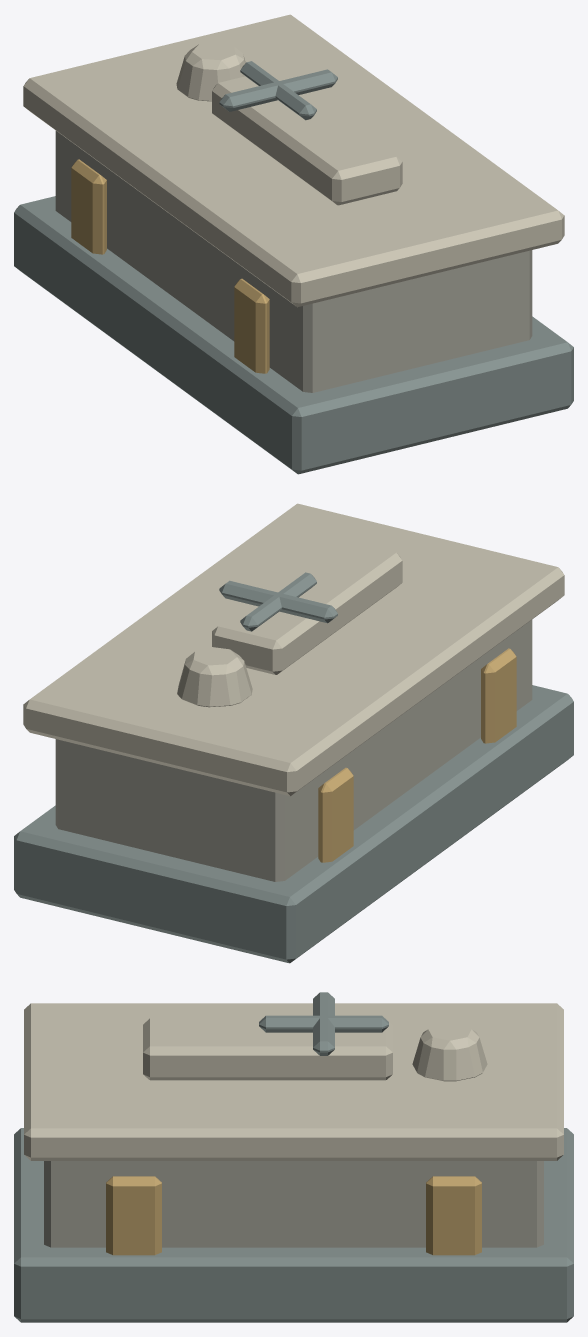
File: sarcophagus.glb
3 views of the same model, one above another, from view 1: azimuth 30°, elevation 25°; view 2: azimuth 150°, elevation 25°; view 3: azimuth 270°, elevation 25° (orthographic).
Visible parts, largest first — view 1: TV_sarcophagus; view 2: TV_sarcophagus; view 3: TV_sarcophagus.
Part boxes in pixels (x1,y1,x2,y2): TV_sarcophagus: [14, 14, 573, 474]; TV_sarcophagus: [14, 503, 573, 963]; TV_sarcophagus: [14, 992, 573, 1322].
Size of the model in its own units: 1.6 by 1.33 by 2.8.
